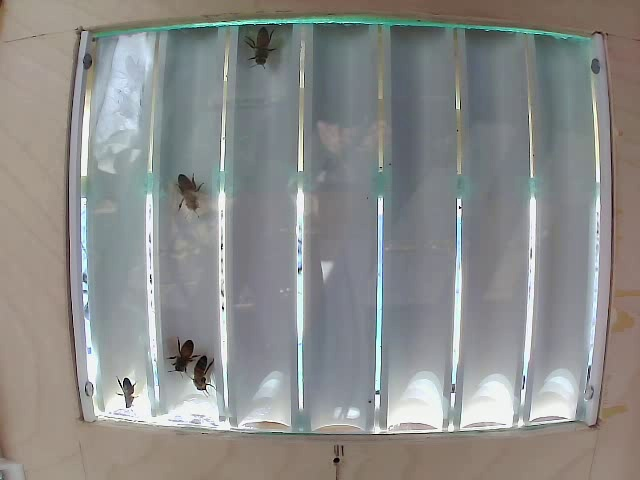bee: (253, 13, 292, 78), (162, 170, 198, 207), (180, 351, 210, 395), (107, 383, 144, 410), (168, 340, 194, 377)
